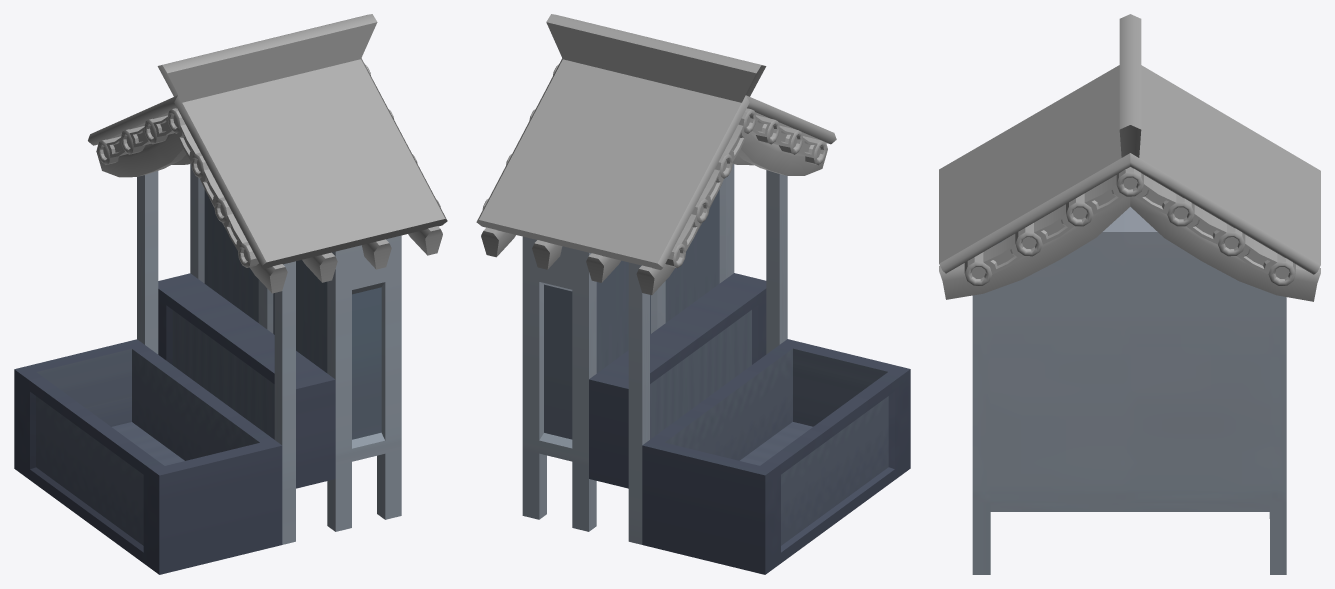
File: Shrine.fbx
3 views of the same model, side by side, from view 1: azimuth 30°, elevation 25°; view 2: azimuth 150°, elevation 25°; view 3: azimuth 270°, elevation 25° (orthographic). The views are drawn at different scales.
Visible parts, largest first — view 1: polySurface99; view 2: polySurface99; view 3: polySurface99.
Part boxes in pixels (x1,y1,x2,y2): polySurface99: [14, 14, 447, 574]; polySurface99: [476, 14, 910, 574]; polySurface99: [939, 14, 1320, 574].
Bounding box in the file's own units: 205 × 299 × 219.
